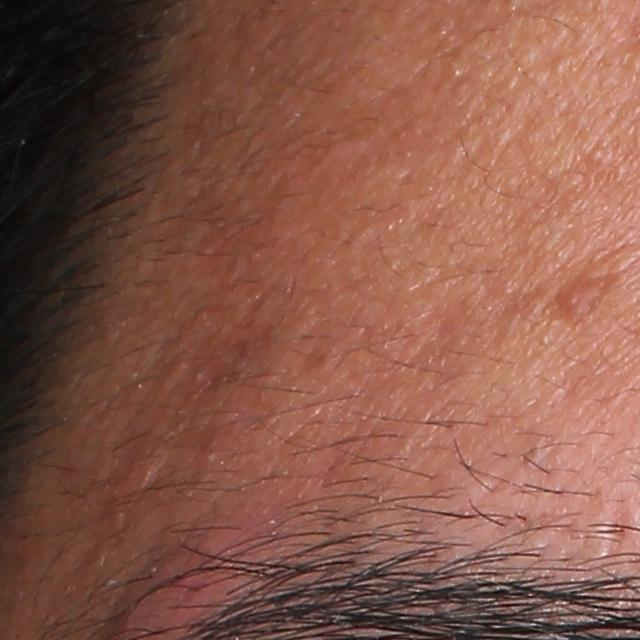atrophic_scar: (122, 303, 284, 492), (528, 245, 621, 330), (603, 494, 639, 557)
